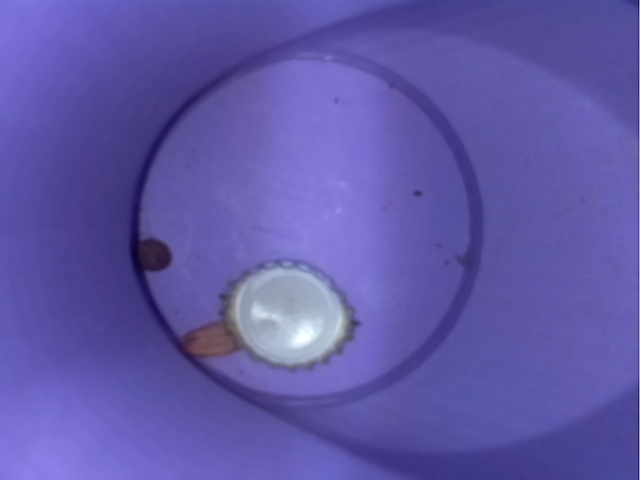capsule: (210, 249, 366, 374)
croquette: (174, 314, 247, 369), (128, 228, 181, 279)
